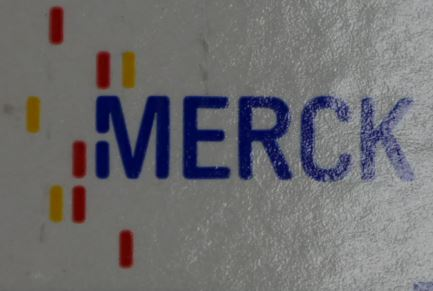Merck: (22, 6, 420, 271)
